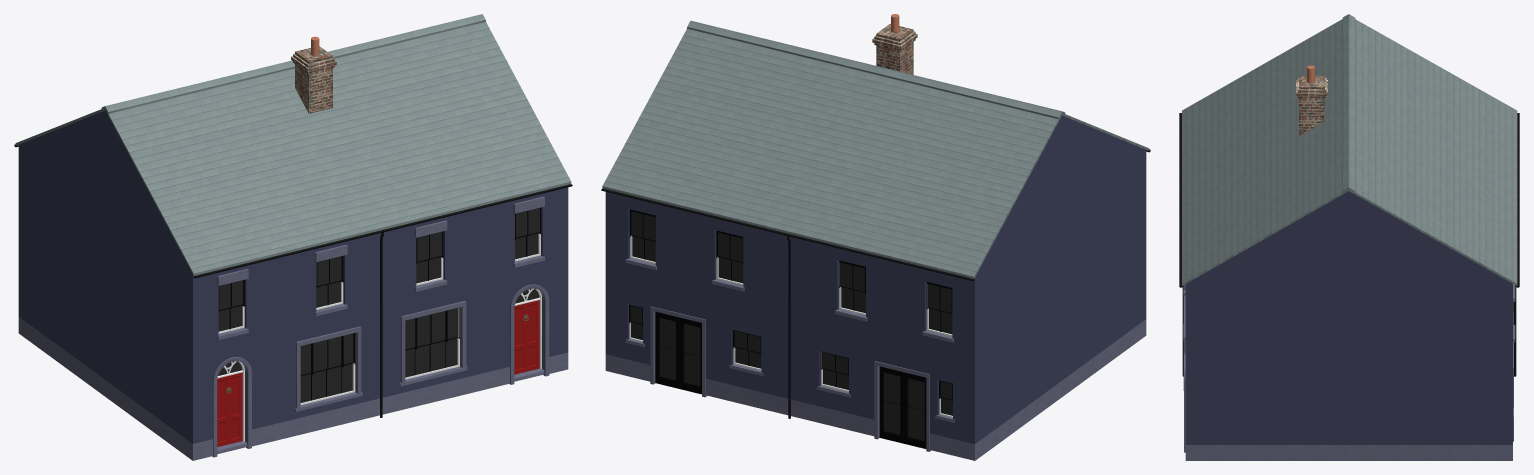
The model's file is house2.obj.
3 renders of one model, left to right at view 1: azimuth 30°, elevation 25°; view 2: azimuth 150°, elevation 25°; view 3: azimuth 270°, elevation 25°, orthographic. The views are drawn at different scales.
Visible parts, largest first — view 1: polySurface76_houseF; view 2: polySurface76_houseF; view 3: polySurface76_houseF.
Boxes of the visible parts, <box> form: polySurface76_houseF: <box>14,14,572,460</box>; polySurface76_houseF: <box>601,14,1150,460</box>; polySurface76_houseF: <box>1179,14,1519,460</box>.
Size of the model in its own units: 4.45 by 3.71 by 3.7.
16 materials, 10 textured.
